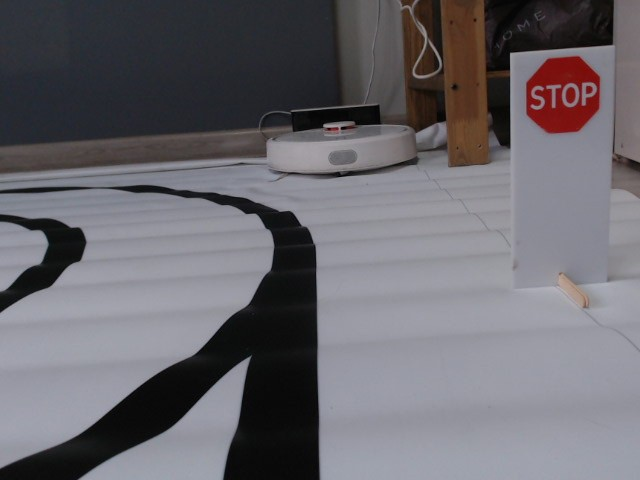Stop: (524, 54, 602, 136)
